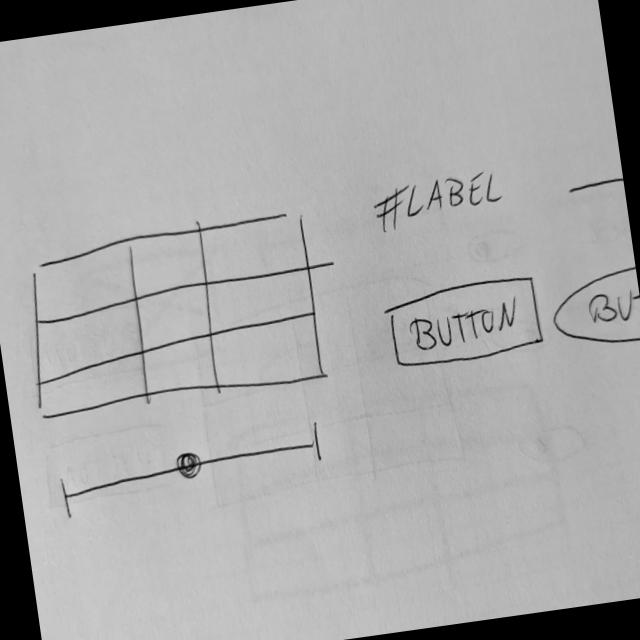button: (381, 269, 546, 376), (543, 262, 640, 356)
label: (368, 164, 509, 237)
select: (560, 150, 624, 198)
slider: (50, 417, 332, 523)
table: (14, 203, 331, 428)
